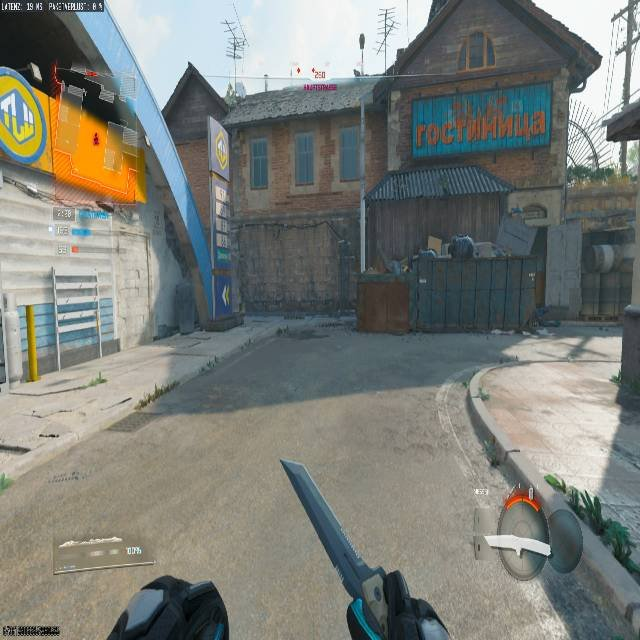head: (100, 576, 231, 639)
